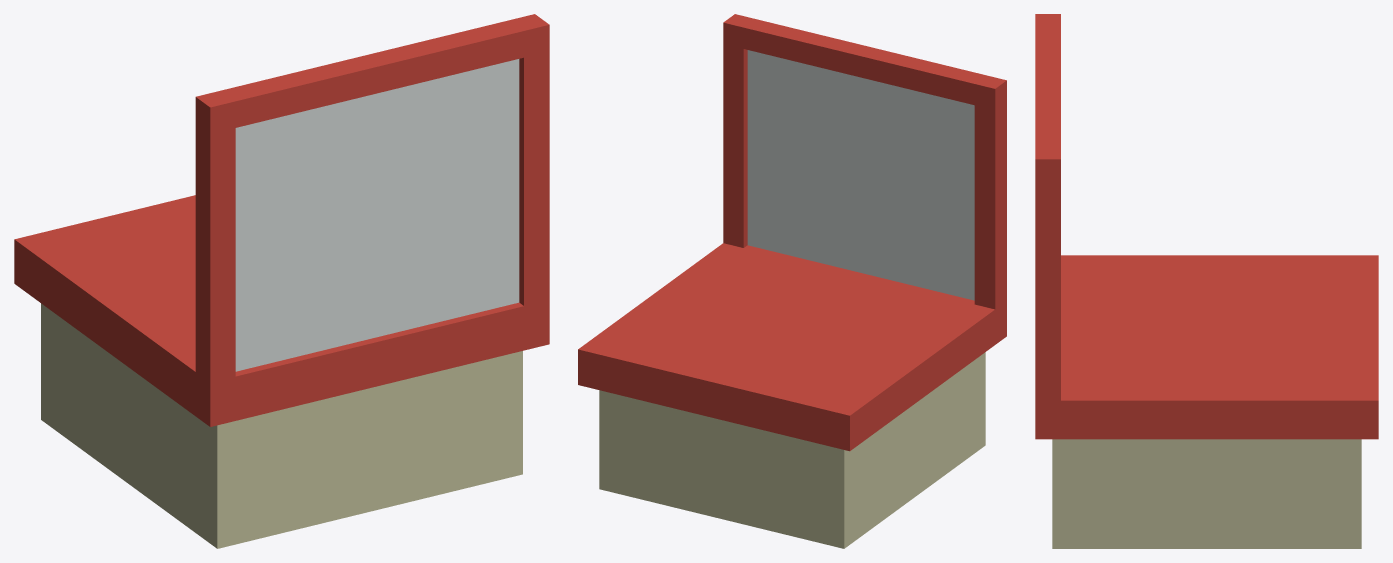
The model's file is ReceptionDesk.fbx.
3 views of the same model, side by side, from view 1: azimuth 30°, elevation 25°; view 2: azimuth 150°, elevation 25°; view 3: azimuth 270°, elevation 25° (orthographic). The views are drawn at different scales.
Parts seen in each view (by area): view 1: ReceptionCounter; view 2: ReceptionCounter; view 3: ReceptionCounter.
Part boxes in pixels (x1=…): ReceptionCounter: x1=14, y1=14, x2=549, y2=548; ReceptionCounter: x1=578, y1=14, x2=1006, y2=548; ReceptionCounter: x1=1035, y1=14, x2=1378, y2=548.
Bounding box in the file's own units: 100 × 128 × 100.
